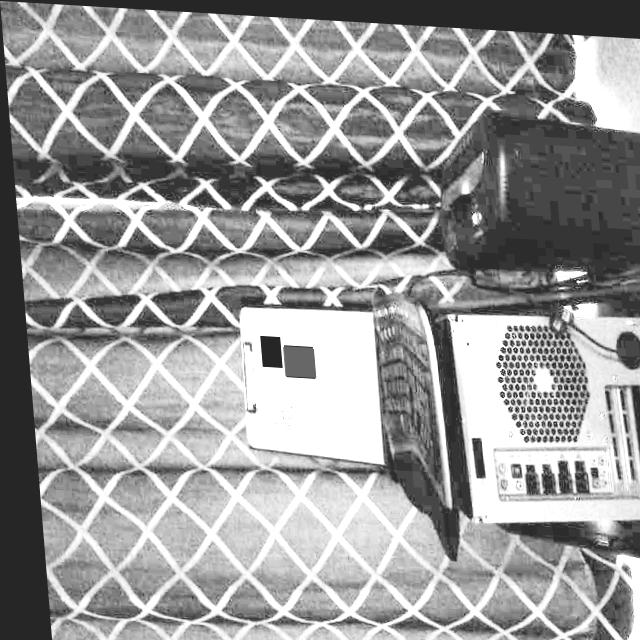qr_code: (253, 385, 295, 434), (277, 342, 310, 373), (255, 332, 277, 364)
